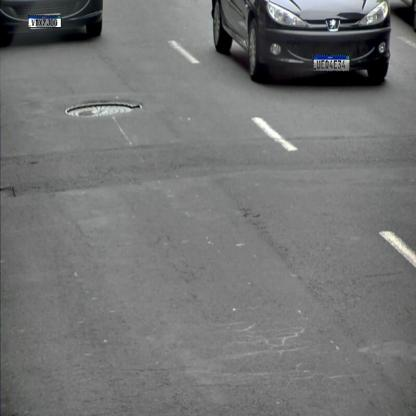PlacaM: (313, 55, 350, 71), (28, 15, 61, 28)
